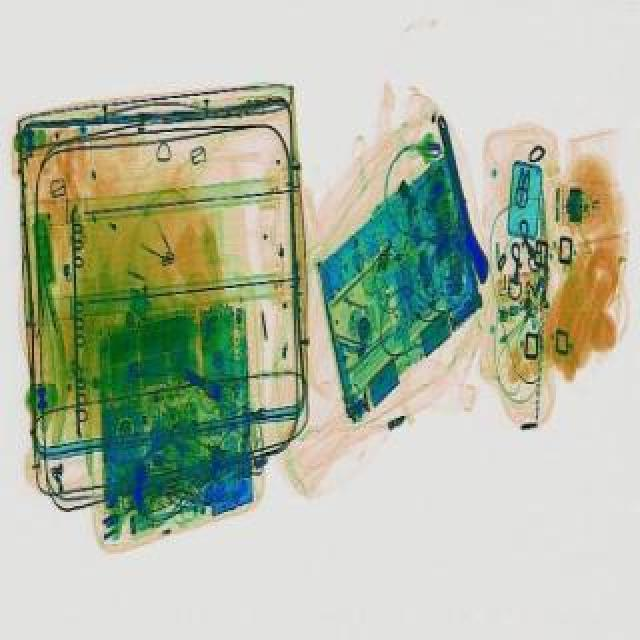scissors: (428, 118, 496, 290)
